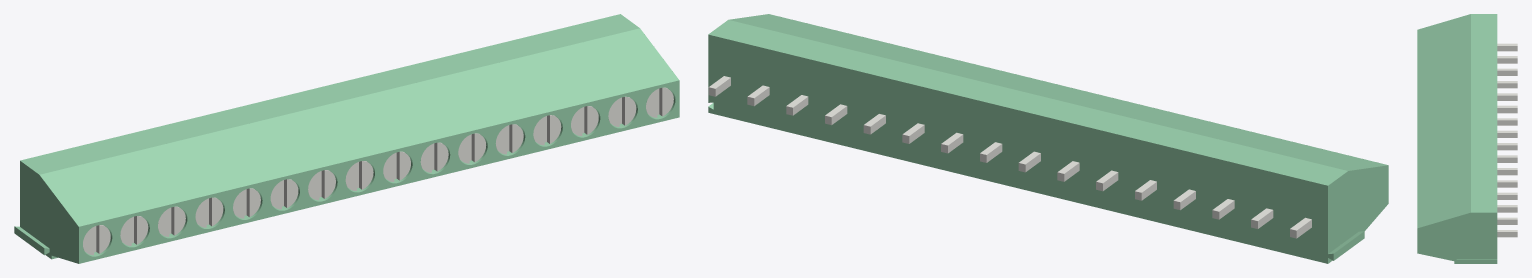
File: TerminalBlock_Phoenix_MKDS-1,5-16-5.08_1x16_P5.08mm_Horizontal.glb
3 views of the same model, side by side, from view 1: azimuth 30°, elevation 25°; view 2: azimuth 150°, elevation 25°; view 3: azimuth 270°, elevation 25° (orthographic). The views are drawn at different scales.
Visible parts, largest first — view 1: Shape_IndexedFaceSet.003, Shape_IndexedFaceSet.004, Shape_IndexedFaceSet.002, Shape_IndexedFaceSet; view 2: Shape_IndexedFaceSet.005, Shape_IndexedFaceSet.004, Shape_IndexedFaceSet.003, Shape_IndexedFaceSet; view 3: Shape_IndexedFaceSet.003, Shape_IndexedFaceSet.004, Shape_IndexedFaceSet.011, Shape_IndexedFaceSet.035, Shape_IndexedFaceSet.039, Shape_IndexedFaceSet.043, Shape_IndexedFaceSet.047, Shape_IndexedFaceSet.055, Shape_IndexedFaceSet.059, Shape_IndexedFaceSet.063, Shape_IndexedFaceSet.067, Shape_IndexedFaceSet.075 (+8 smaller).
Part boxes in pixels (box(x1,y1,x2,y2)): Shape_IndexedFaceSet.003: box(39, 28, 678, 226); Shape_IndexedFaceSet.004: box(20, 14, 639, 174); Shape_IndexedFaceSet.002: box(79, 80, 679, 263); Shape_IndexedFaceSet: box(20, 161, 78, 263); Shape_IndexedFaceSet.005: box(708, 34, 1333, 263); Shape_IndexedFaceSet.004: box(708, 20, 1347, 185); Shape_IndexedFaceSet.003: box(728, 14, 1387, 170); Shape_IndexedFaceSet: box(1328, 165, 1388, 263); Shape_IndexedFaceSet.003: box(1417, 14, 1470, 228); Shape_IndexedFaceSet.004: box(1471, 14, 1497, 212); Shape_IndexedFaceSet.011: box(1417, 212, 1497, 263); Shape_IndexedFaceSet.035: box(1497, 83, 1517, 88); Shape_IndexedFaceSet.039: box(1497, 70, 1517, 75); Shape_IndexedFaceSet.043: box(1497, 58, 1517, 63); Shape_IndexedFaceSet.047: box(1497, 95, 1517, 100); Shape_IndexedFaceSet.055: box(1497, 120, 1517, 125); Shape_IndexedFaceSet.059: box(1497, 108, 1517, 113); Shape_IndexedFaceSet.063: box(1497, 207, 1517, 212); Shape_IndexedFaceSet.067: box(1497, 182, 1517, 187); Shape_IndexedFaceSet.075: box(1497, 145, 1517, 150).
Size of the model in its own units: 32.29 by 3.86 by 6.81.
